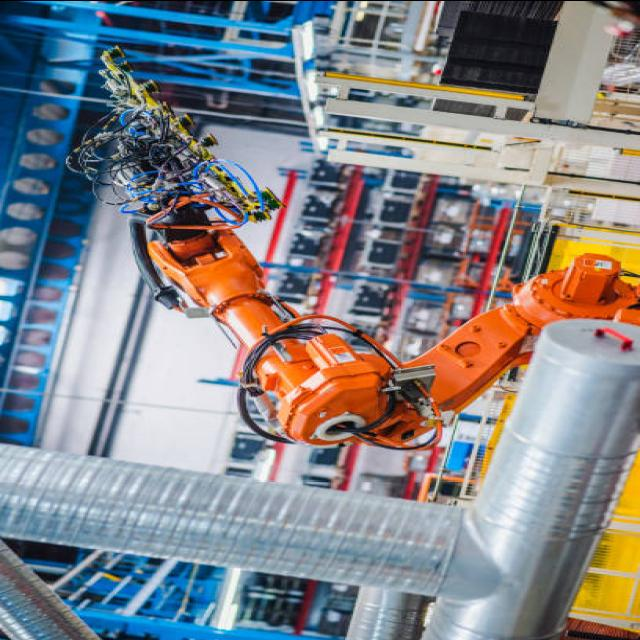Robotic-arm: (130, 185, 640, 458)
